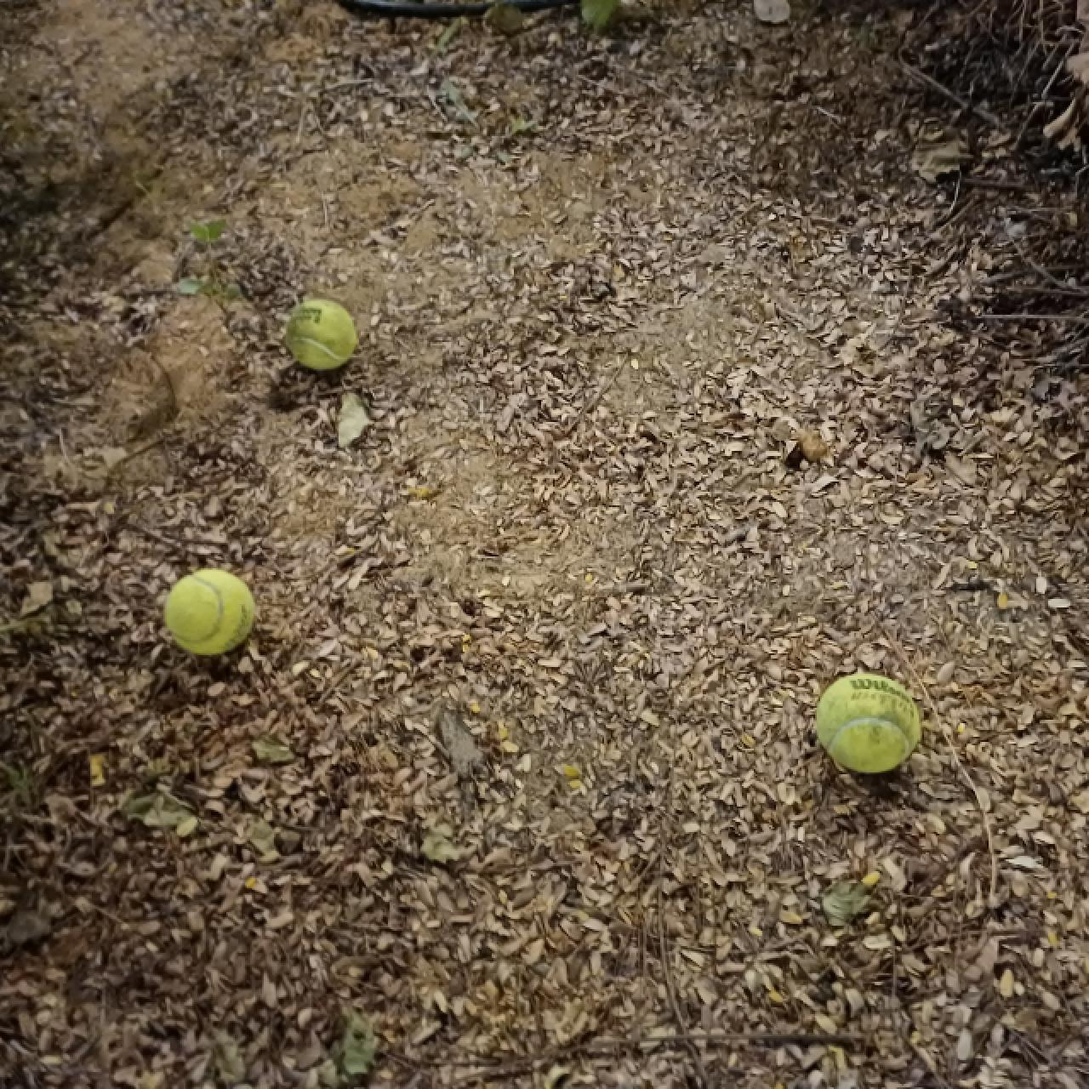tennis-ball: (815, 670, 920, 773), (164, 565, 255, 656), (283, 297, 359, 371)
